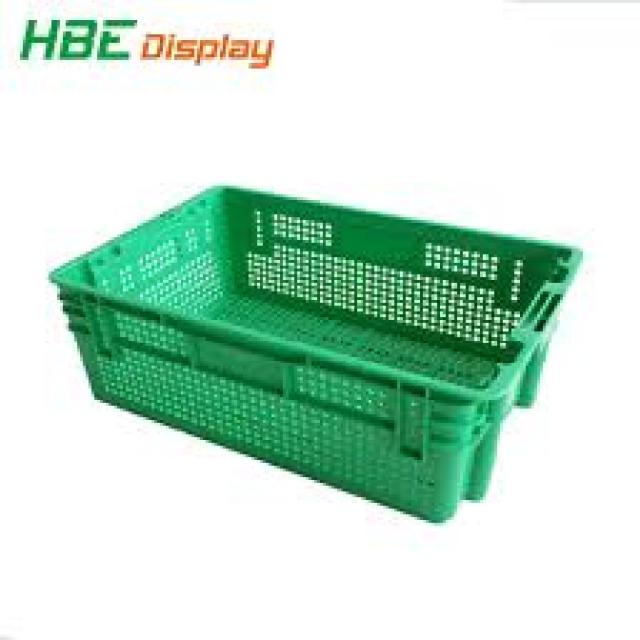basket: (17, 93, 587, 537)
